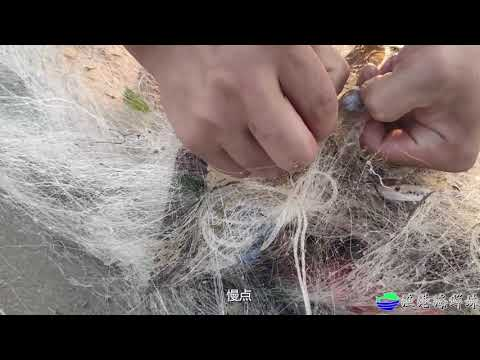net: (12, 79, 153, 240), (219, 181, 412, 295)
